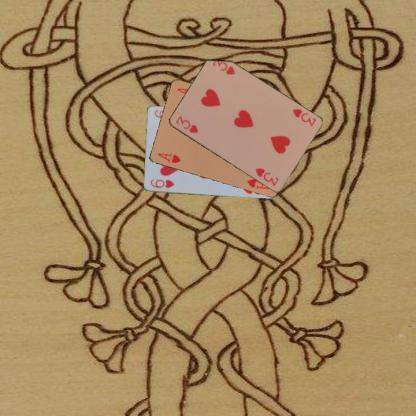3h: (290, 106, 317, 128), (173, 113, 199, 135)
6h: (148, 177, 175, 189)
Ah: (155, 150, 182, 164)
